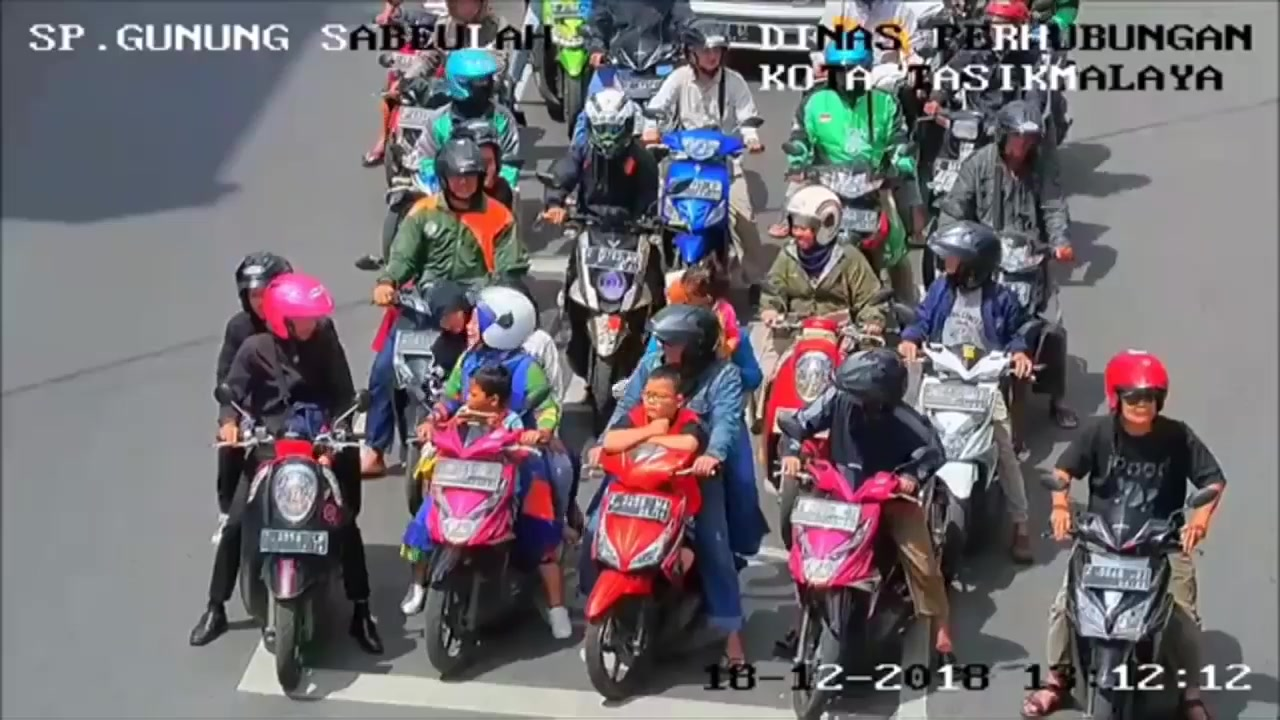person with helmet: (582, 83, 638, 171)
person with motorcycle: (555, 86, 668, 361)
